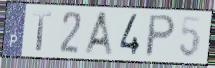2: (58, 10, 83, 55)
4: (117, 12, 142, 58)
5: (178, 14, 203, 60)
A: (82, 10, 115, 58)
P: (143, 13, 178, 59)
T: (31, 10, 53, 53)
